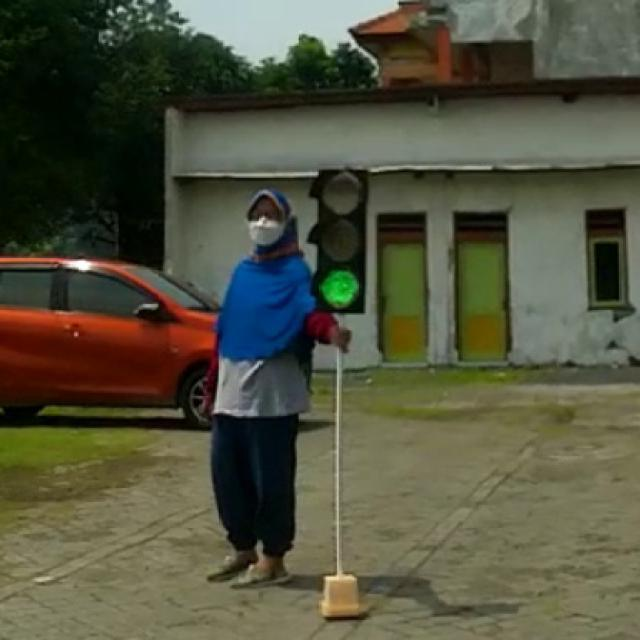green_light: (306, 168, 364, 310)
